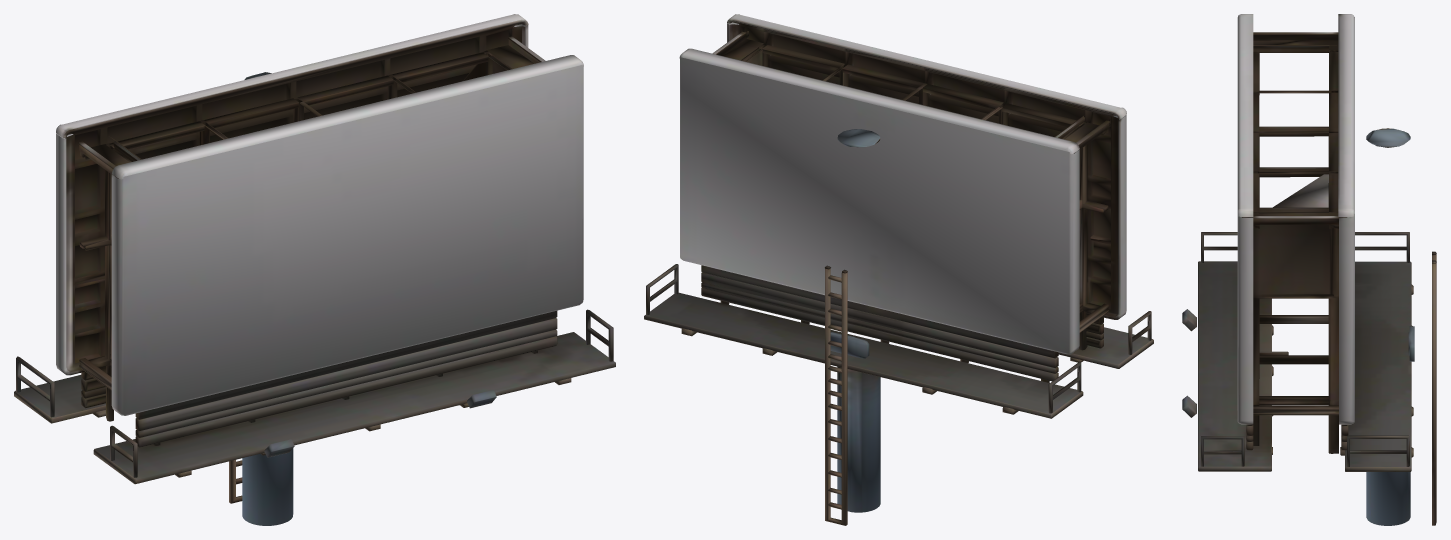
The model's file is Outdoor__city_billboard_a1ca8341_v1.cluster.glb.
3 renders of one model, left to right at view 1: azimuth 30°, elevation 25°; view 2: azimuth 150°, elevation 25°; view 3: azimuth 270°, elevation 25°, orthographic. The views are drawn at different scales.
Visible parts, largest first — view 1: material; view 2: material; view 3: material.
Part boxes in pixels (x1=…): material: x1=14, y1=14, x2=615, y2=525; material: x1=644, y1=14, x2=1153, y2=525; material: x1=1182, y1=14, x2=1436, y2=525.
Bounding box in the file's own units: 1.9 × 1.76 × 0.9901.
1 material, 1 textured.
